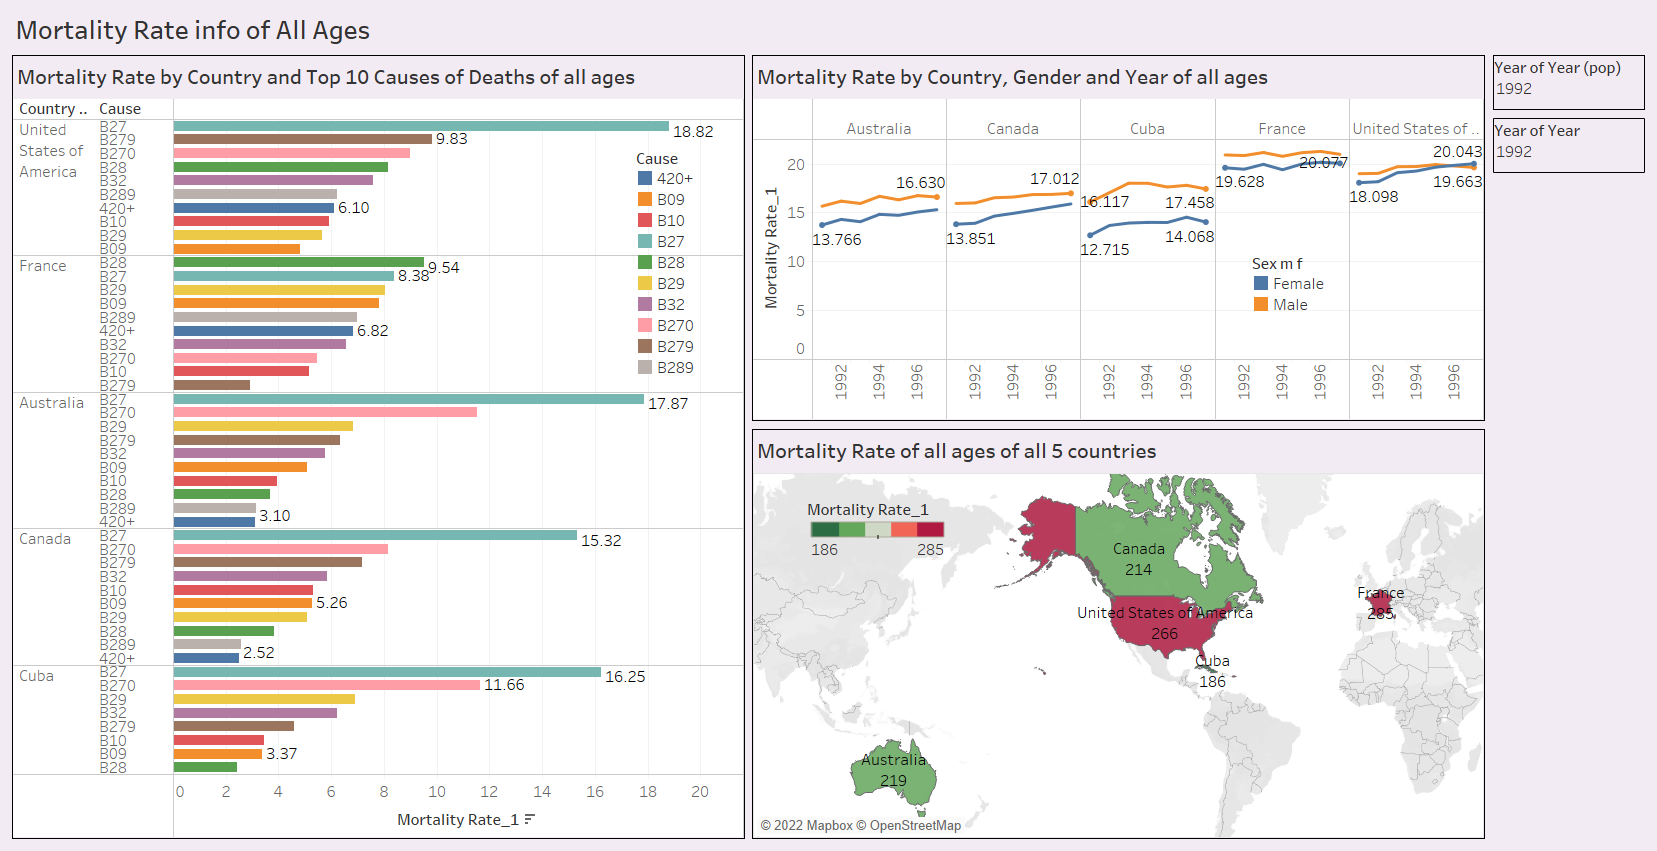

The page's visual inventory and layout, read from the dashboard file:
{"tool":"tableau","page":{"name":"Mortality Rate info of All Ages","canvas":[1000,1000],"units":"permille","ordinal":1},"visuals":[{"type":"title","box":[4.9,8.8,990.2,47.2]},{"type":"worksheet","title":"Mortality Rate by Country and Top 10 Causes of Deaths","mark":"Automatic","rows":["name","Cause"],"cols":["Calculation_701154190742810624"],"box":[4.9,56,445.9,935.2]},{"type":"worksheet","title":"Mortality Rate by Country, Gender and Year","mark":"Automatic","rows":["Calculation_701154190742810624"],"cols":["name","Year"],"box":[450.8,56,445.9,441.6]},{"type":"filter","title":"Q1","param":"[federated.04rxcd90pjbnn615xpdo81cquxig].[yr:Year (pop):ok]","box":[896.7,56,98.4,69.2]},{"type":"filter","title":"Q1","param":"[federated.04rxcd90pjbnn615xpdo81cquxig].[yr:Year:ok]","box":[896.7,125.1,98.4,69.2]},{"type":"legend","title":"Mortality Rate by Country and Top 10 Causes of Deaths","param":"[federated.04rxcd90pjbnn615xpdo81cquxig].[none:Cause:nk]","box":[383.2,171.6,53.7,275]},{"type":"legend","title":"Mortality Rate by Country, Gender and Year","param":"[federated.04rxcd90pjbnn615xpdo81cquxig].[none:Sex_m_f:nk]","box":[755,294.9,84.5,75.2]},{"type":"worksheet","title":"Q1","mark":"Automatic","box":[450.8,497.6,445.9,493.6]},{"type":"legend","title":"Q1","param":"[federated.04rxcd90pjbnn615xpdo81cquxig].[usr:Calculation_701154190742810624:qk]","box":[487,581.7,85.7,74]}]}

Visuals, with their boxes on the dashboard's canvas, which has no fixed pixel size, in thousandths of its width and height (x1, y1, x2, y2). These are canvas units, not pixel positions in the 1657x851 screenshot, which may show the page scaled, cropped or inside an application window:
title: box(5, 9, 995, 56)
"Mortality Rate by Country and Top 10 Causes of Deaths" worksheet: box(5, 56, 451, 991)
"Mortality Rate by Country, Gender and Year" worksheet: box(451, 56, 897, 498)
"Q1" filter: box(897, 56, 995, 125)
"Q1" filter: box(897, 125, 995, 194)
"Mortality Rate by Country and Top 10 Causes of Deaths" legend: box(383, 172, 437, 447)
"Mortality Rate by Country, Gender and Year" legend: box(755, 295, 840, 370)
"Q1" worksheet: box(451, 498, 897, 991)
"Q1" legend: box(487, 582, 573, 656)
